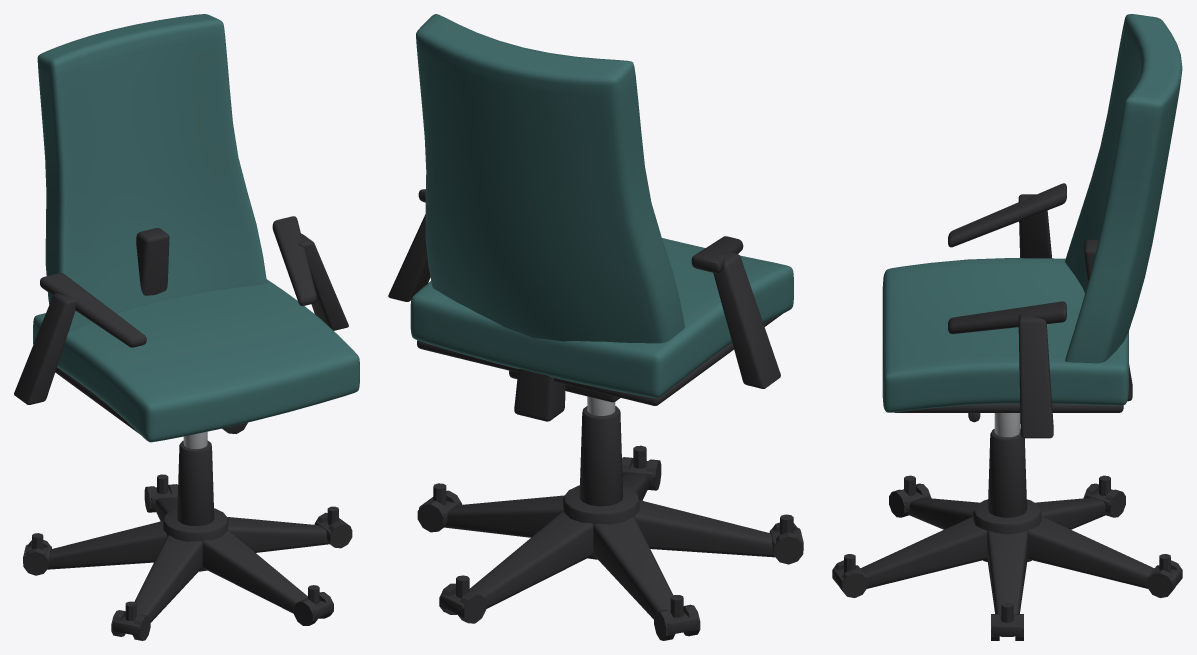
Rendered from task-chair.glb.
3 renders of one model, left to right at view 1: azimuth 30°, elevation 25°; view 2: azimuth 150°, elevation 25°; view 3: azimuth 270°, elevation 25°, orthographic. The views are drawn at different scales.
Visible parts, largest first — view 1: TaskChair; view 2: TaskChair; view 3: TaskChair.
Boxes of the visible parts, x1,y1,x2,y2 form: TaskChair: (14,14,359,640); TaskChair: (388,14,803,640); TaskChair: (832,14,1182,640).
Size of the model in its own units: 0.701 by 1.03 by 0.6344.
